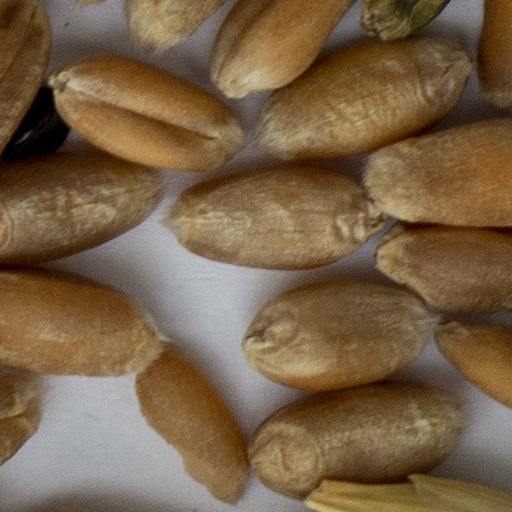Fallopia-Convolvulus-poly: (3, 88, 66, 159)
